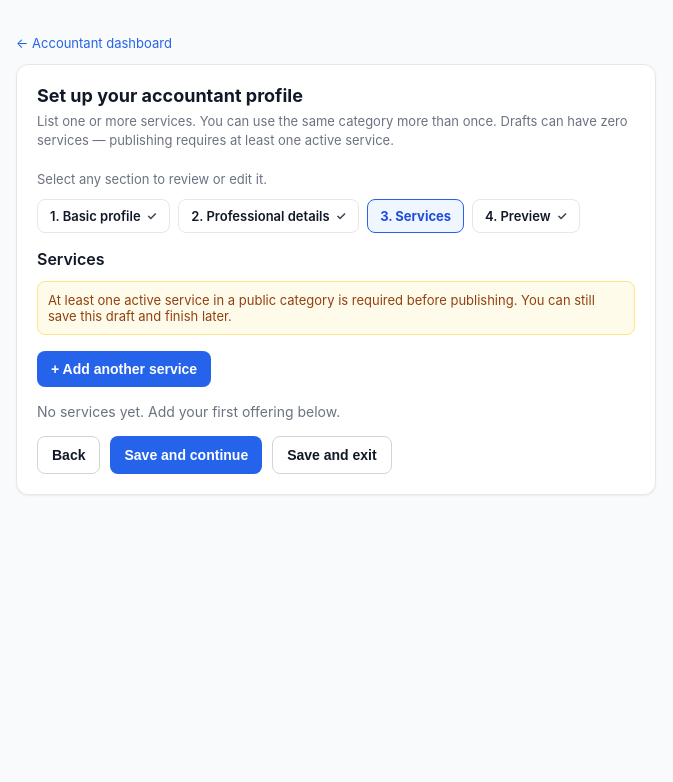
Test: shows field-level validation errors from the API
Click the button "+ Add another service": (124, 369) [37,351,211,387]
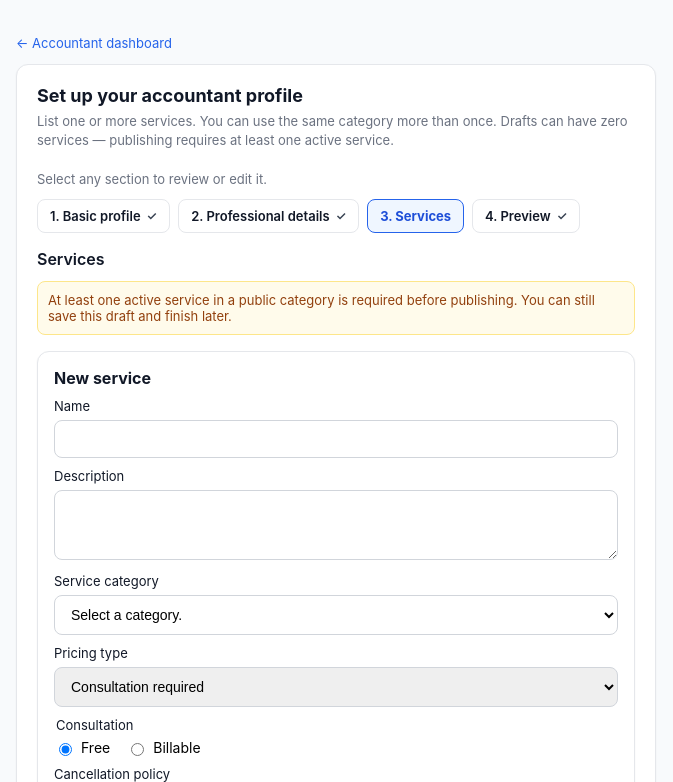
Expected: the dropdown labelled "Service category" is enabled, [54,595,618,635]
In the field labelled "Name": (336, 439) [54,420,618,458], type "Temp"
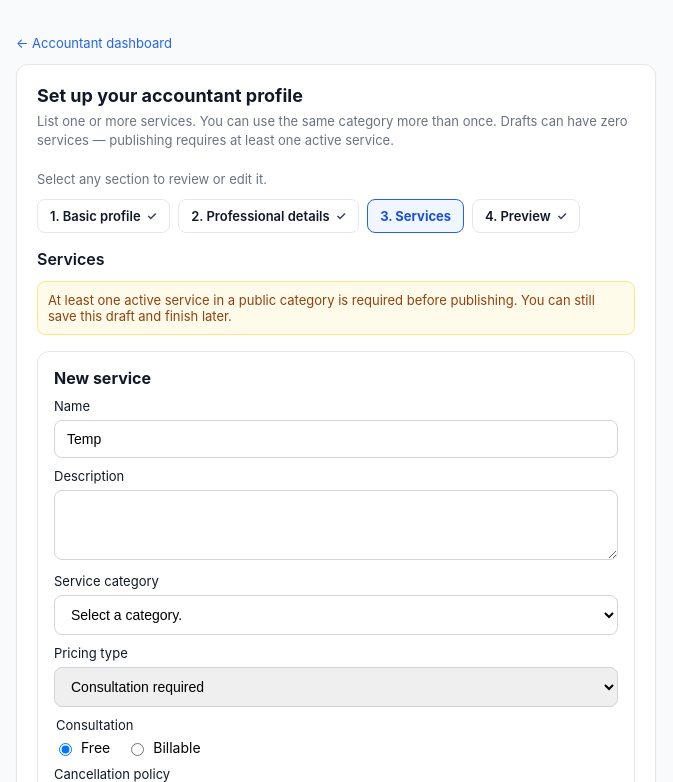
In the text box labelled "Description": (336, 525) [54,490,618,560], type "Details"
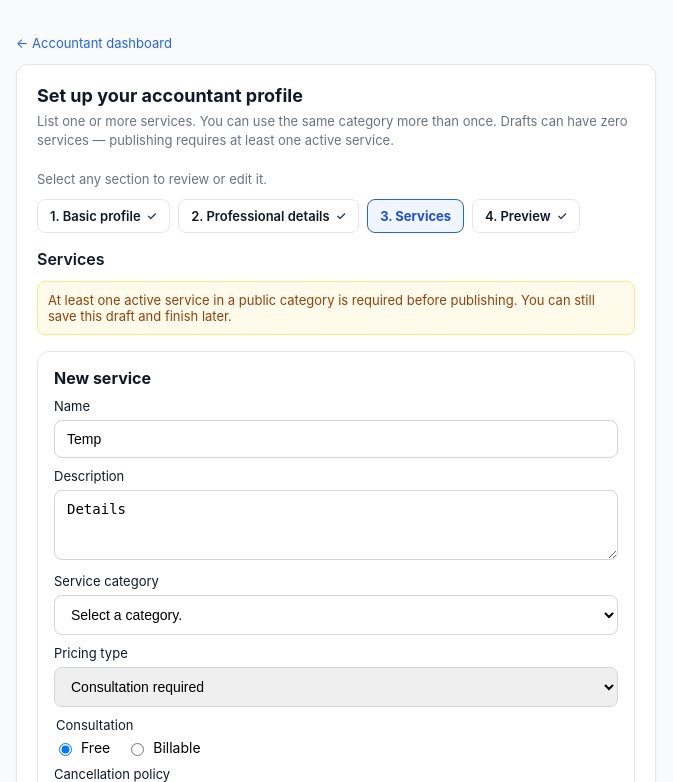
Select "Bookkeeping" in the dropdown labelled "Service category": (336, 615) [54,595,618,635]
(page scrolled)
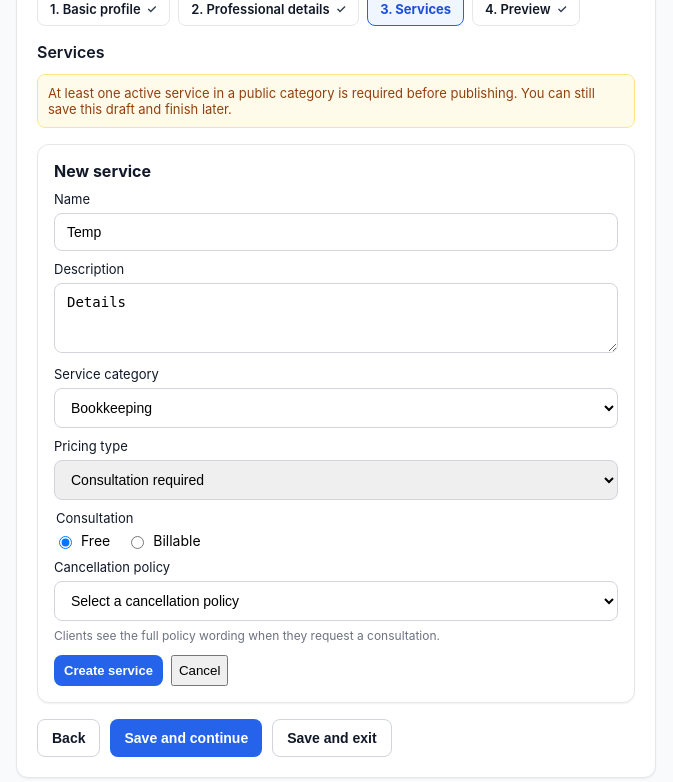
Select "Full refund if cancelled at least 24 hours before the consultation. Cancellation" in the dropdown labelled "Cancellation policy": (336, 601) [54,581,618,621]
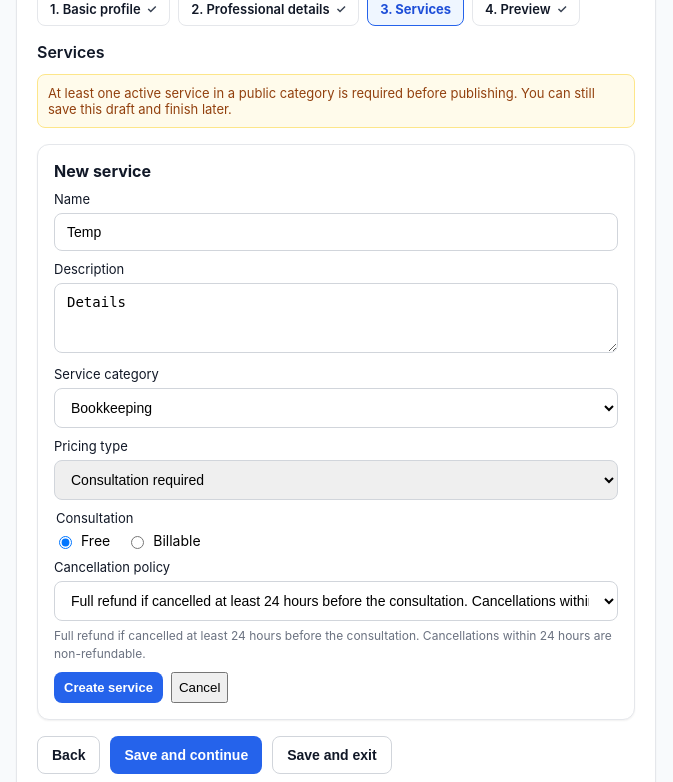
Click the button "Create service": (108, 688) [54,672,163,703]
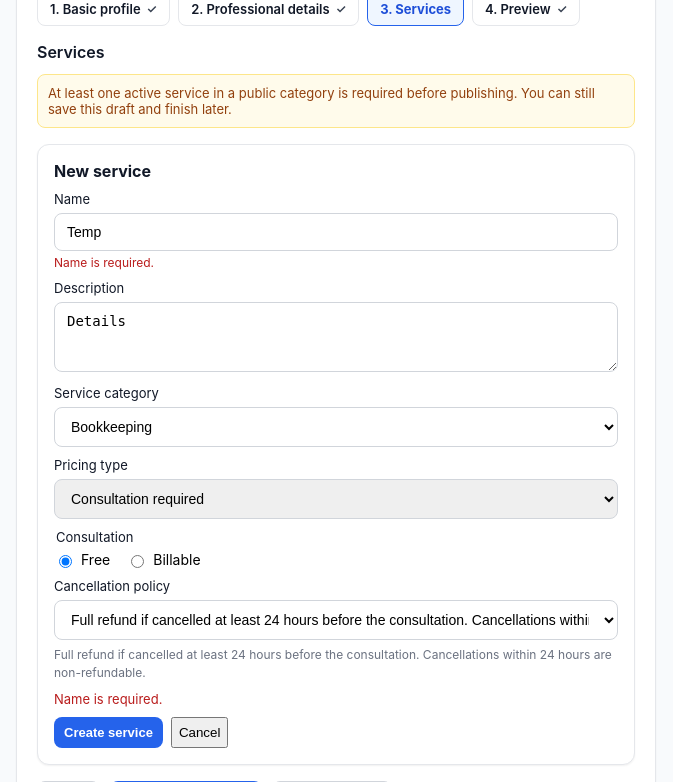
Expected: the message reads "Name is required.", [54,691,162,707]
